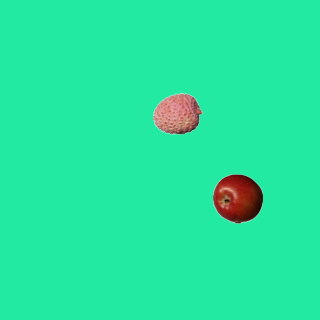Apple Braeburn: (212, 173, 262, 223)
Lychee: (152, 88, 202, 138)
